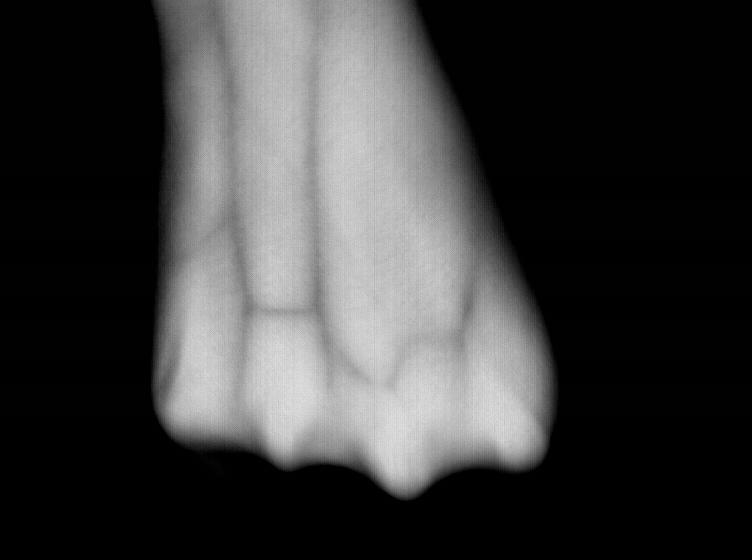Vein: (214, 21, 337, 364)
